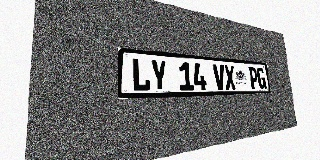1: (178, 62, 194, 90)
4: (192, 63, 207, 90)
G: (256, 67, 267, 89)
L: (131, 58, 151, 91)
P: (248, 67, 259, 89)
V: (213, 64, 226, 90)
X: (224, 65, 236, 89)
Y: (150, 59, 168, 91)
